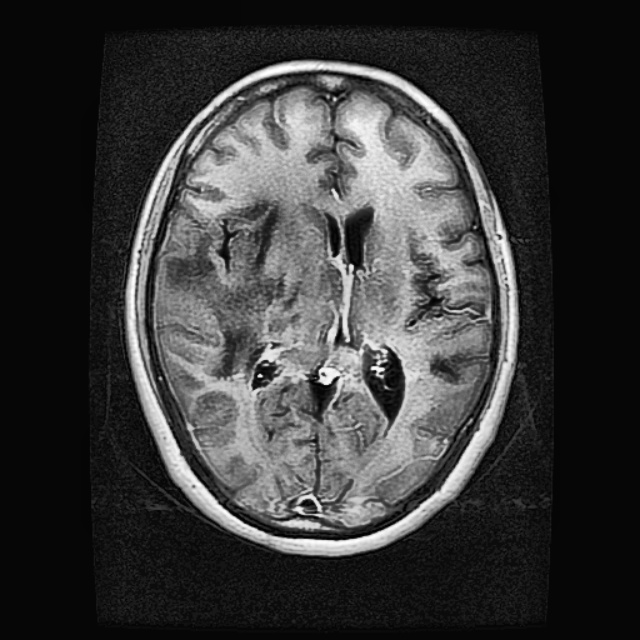Glioma: (165, 200, 289, 375)
